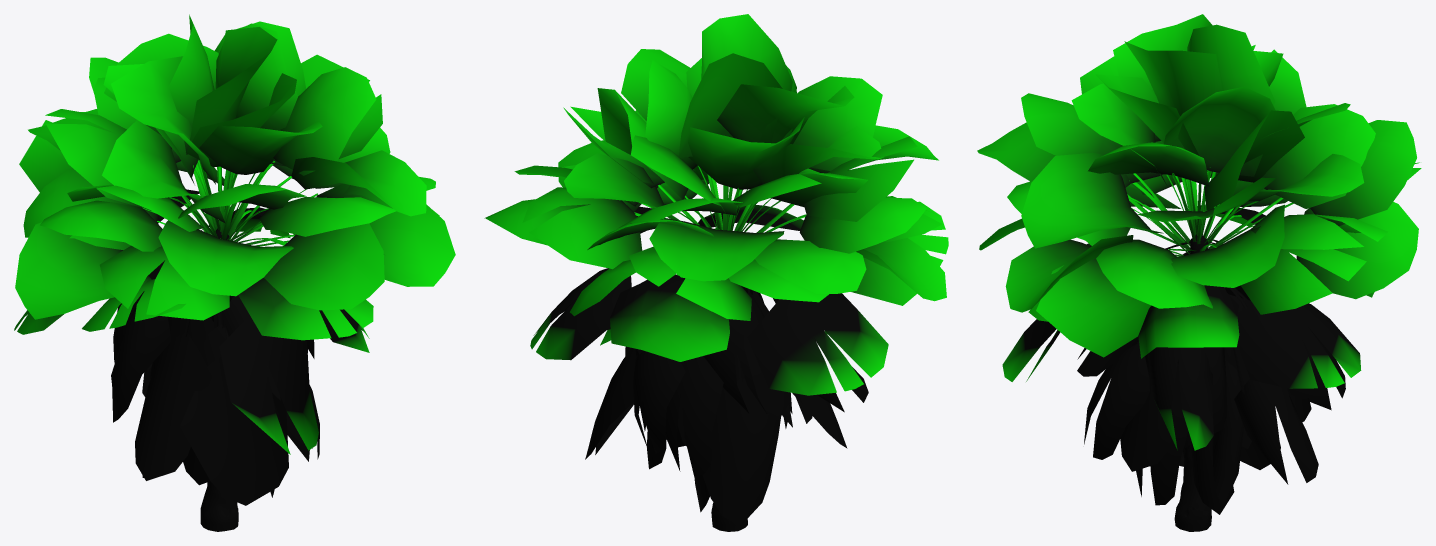
The picture shows the model from 3 angles, left to right: view 1: azimuth 30°, elevation 25°; view 2: azimuth 150°, elevation 25°; view 3: azimuth 270°, elevation 25°; orthographic projection. The views are drawn at different scales.
Visible parts, largest first — view 1: SM_TR_CaliforniaPalm_7m_HD; view 2: SM_TR_CaliforniaPalm_7m_HD; view 3: SM_TR_CaliforniaPalm_7m_HD.
Boxes of the visible parts, x1,y1,x2,y2 form: SM_TR_CaliforniaPalm_7m_HD: (14, 14, 455, 531); SM_TR_CaliforniaPalm_7m_HD: (484, 14, 948, 531); SM_TR_CaliforniaPalm_7m_HD: (977, 14, 1421, 531).
Size of the model in its own units: 200 by 206 by 245.
